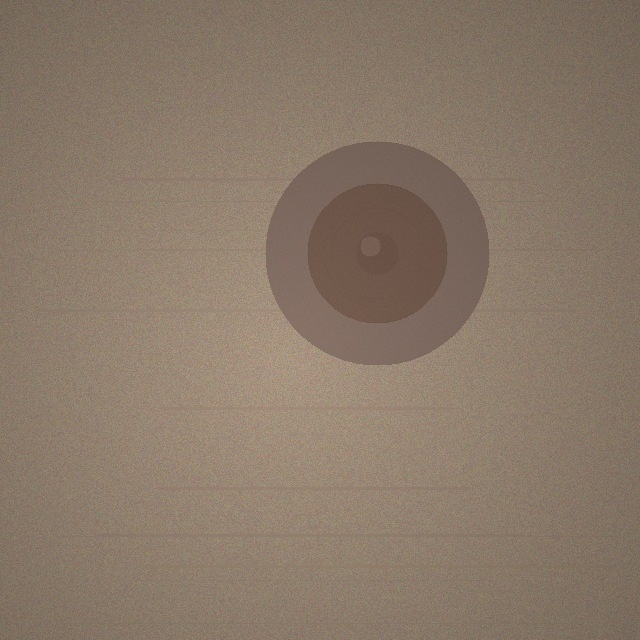good: (265, 141, 489, 365)
